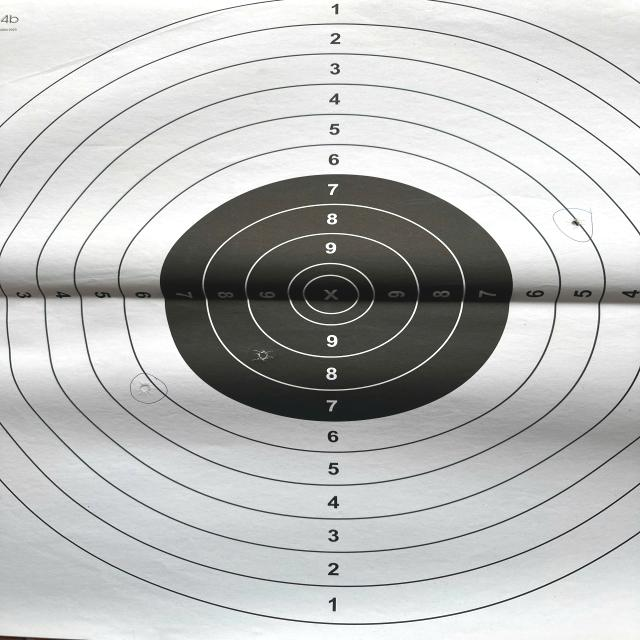bullet: (136, 380, 152, 395), (260, 348, 268, 360), (571, 220, 581, 226)
target: (0, 0, 628, 640)
